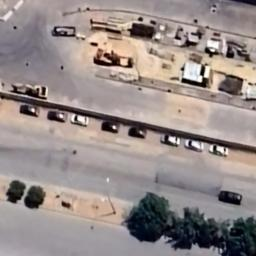sedan: (218, 190, 242, 204), (184, 138, 204, 152), (208, 144, 229, 156), (20, 104, 40, 116), (160, 134, 180, 146), (71, 114, 89, 126), (102, 121, 120, 133), (48, 111, 67, 122), (128, 128, 147, 138)
